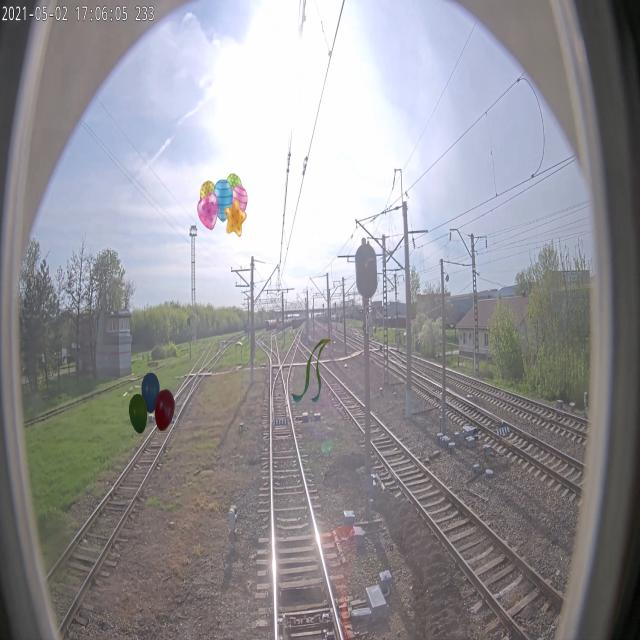balloon: (197, 173, 249, 237), (129, 371, 175, 435)
floating object: (291, 339, 333, 403)
